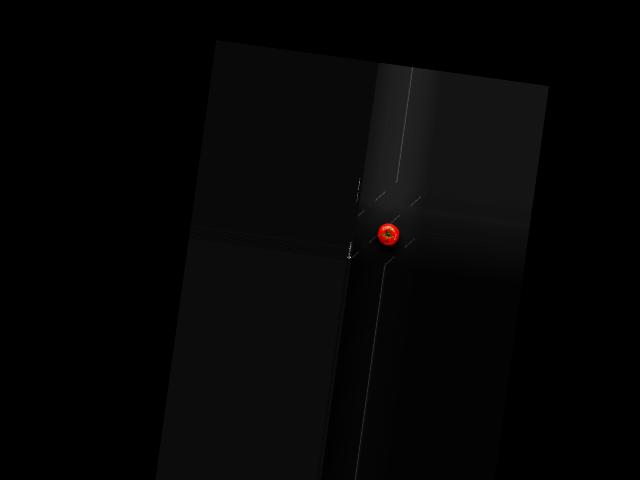tomato: (375, 221, 400, 246)
